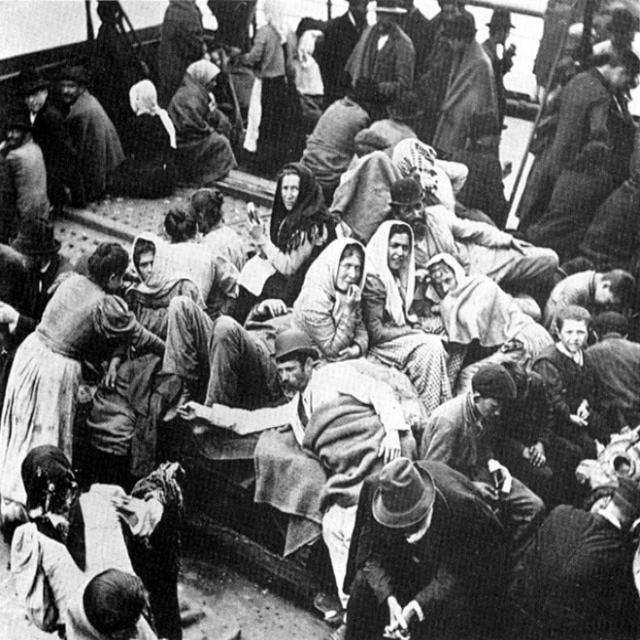body: (172, 319, 420, 639), (0, 240, 171, 548), (414, 360, 546, 636), (340, 451, 514, 639), (7, 440, 170, 640), (80, 228, 210, 462), (386, 174, 562, 326), (511, 43, 640, 246), (504, 471, 639, 639), (361, 216, 470, 416), (156, 292, 318, 424), (424, 250, 560, 398), (231, 160, 340, 332), (429, 10, 513, 232), (520, 126, 639, 281), (488, 359, 588, 508), (529, 303, 614, 462), (236, 0, 302, 182), (296, 74, 382, 210), (522, 139, 618, 260), (135, 202, 241, 311), (289, 234, 373, 365), (238, 0, 297, 183), (163, 54, 241, 192), (56, 61, 128, 206), (342, 0, 418, 128), (328, 128, 404, 247), (188, 185, 248, 324), (553, 0, 640, 94), (112, 76, 178, 199), (65, 561, 167, 640), (581, 309, 640, 444), (0, 111, 54, 257), (542, 266, 639, 346), (0, 228, 37, 432), (418, 0, 469, 147), (311, 0, 374, 115), (21, 72, 68, 222), (391, 135, 471, 216), (154, 0, 207, 110), (478, 5, 518, 140), (366, 89, 422, 148), (391, 0, 437, 61)
